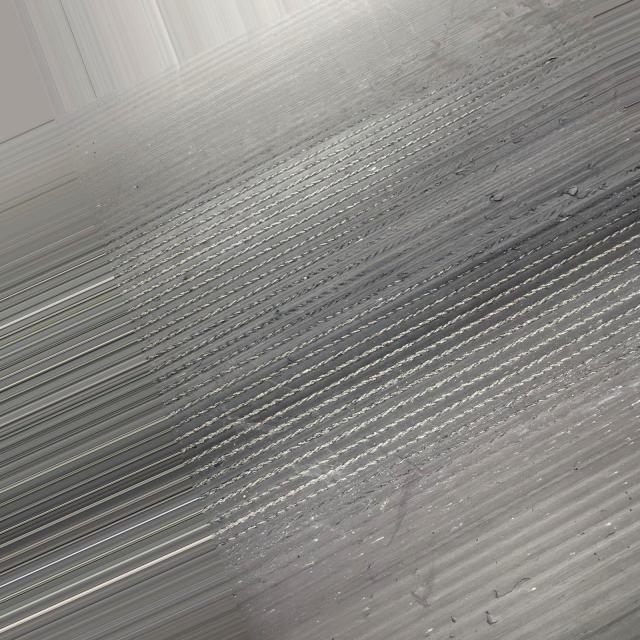impact damage: (110, 25, 640, 541)
